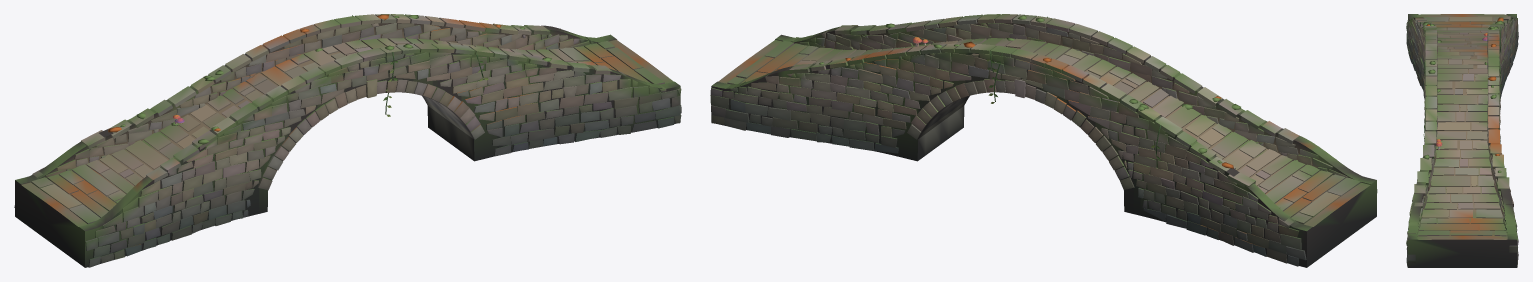
The model's file is kopru_tas.glb.
3 views of the same model, side by side, from view 1: azimuth 30°, elevation 25°; view 2: azimuth 150°, elevation 25°; view 3: azimuth 270°, elevation 25° (orthographic). The views are drawn at different scales.
Parts seen in each view (by area): view 1: kopru_tas_LOD0; view 2: kopru_tas_LOD0; view 3: kopru_tas_LOD0.
Boxes of the visible parts, x1,y1,x2,y2 form: kopru_tas_LOD0: (14,14,681,267); kopru_tas_LOD0: (710,14,1377,267); kopru_tas_LOD0: (1406,14,1518,267).
Size of what is drawn, in the model's own units: 26.02 by 5.51 by 5.49.
